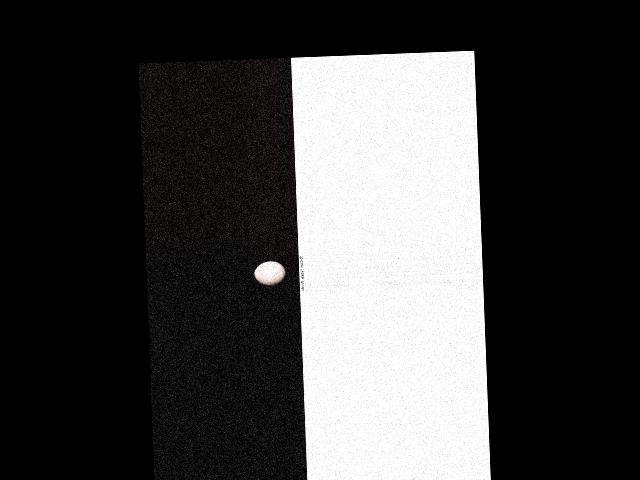egg: (254, 261, 287, 286)
